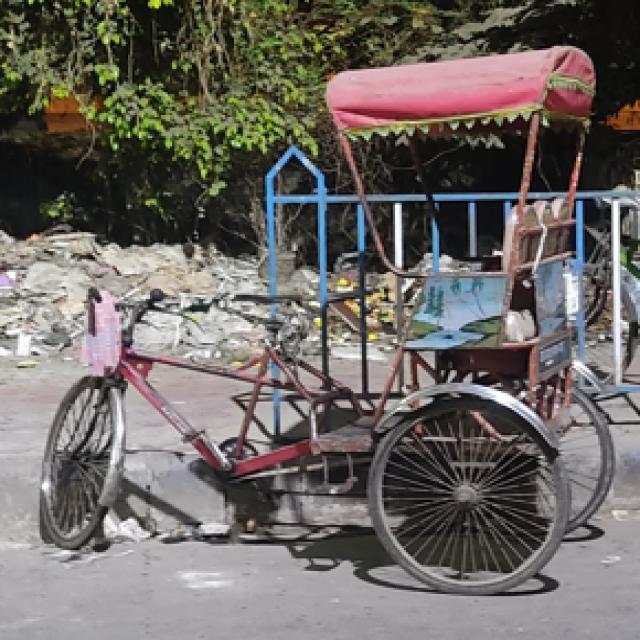rickshaw: (31, 44, 620, 600)
